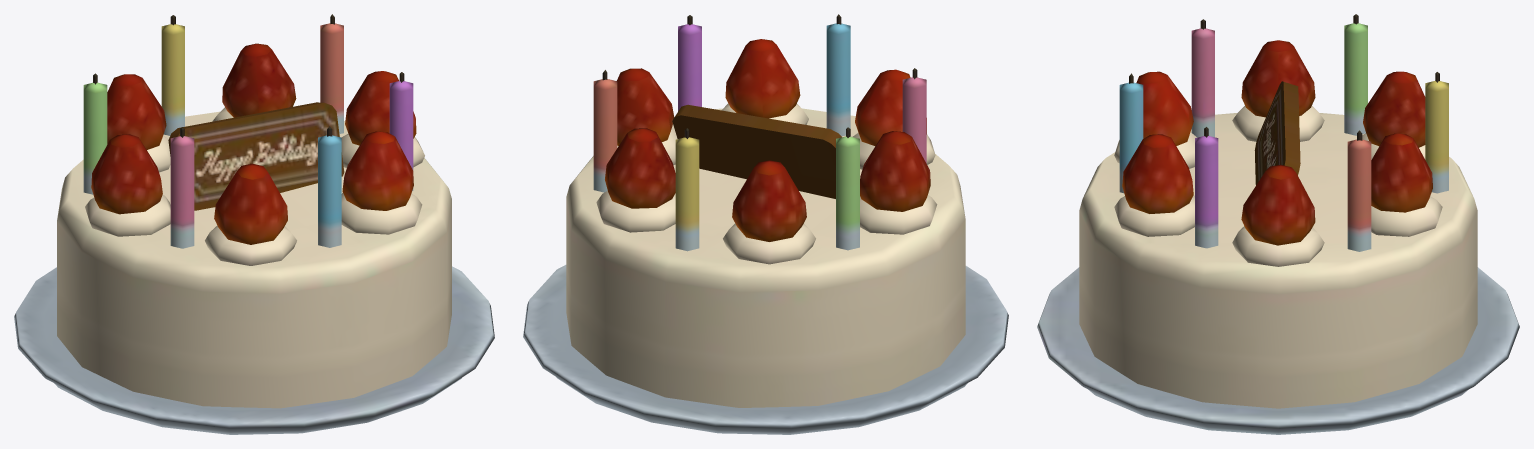
Rendered from birthday-cake.glb.
The picture shows the model from 3 angles, left to right: view 1: azimuth 30°, elevation 25°; view 2: azimuth 150°, elevation 25°; view 3: azimuth 270°, elevation 25°; orthographic projection.
Size of the model in its own units: 8 by 4.88 by 8.
Materials: 1 (1 with a texture image).
